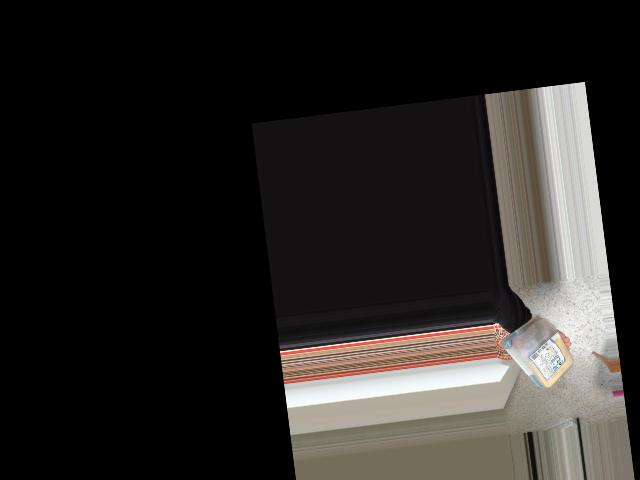cheese: (508, 318, 575, 390)
